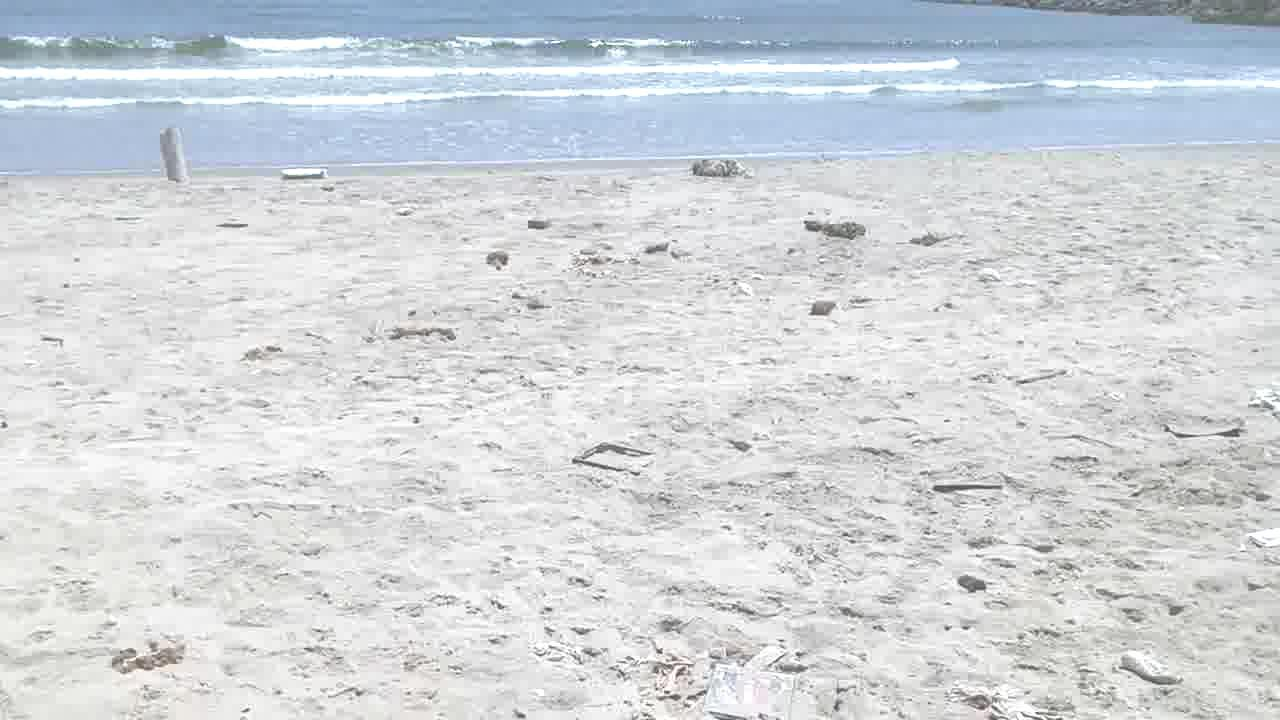large collection of objects: (570, 441, 656, 474), (688, 156, 768, 178)
obj: (701, 646, 842, 720), (943, 683, 1038, 719), (110, 641, 190, 676), (566, 246, 640, 278), (1120, 648, 1184, 684), (158, 127, 194, 186), (1243, 378, 1279, 423), (932, 473, 1006, 493), (802, 220, 866, 241), (893, 230, 967, 248), (384, 324, 457, 342), (1238, 524, 1279, 549), (1019, 369, 1071, 384), (280, 166, 326, 182), (485, 250, 507, 272), (526, 217, 554, 229), (216, 221, 248, 227), (396, 207, 415, 214)
sand/background: (0, 0, 1279, 180)
